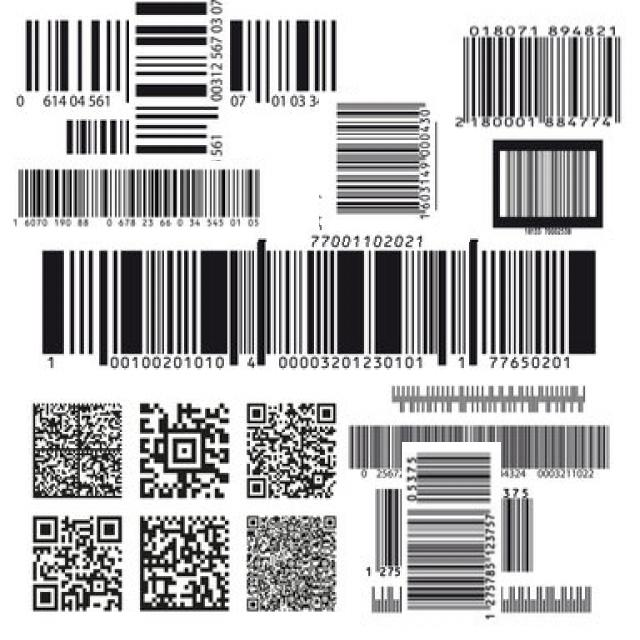Barkod: (28, 242, 616, 372), (66, 0, 292, 177), (449, 13, 629, 138), (381, 463, 522, 604), (10, 161, 266, 234), (313, 99, 441, 226)
